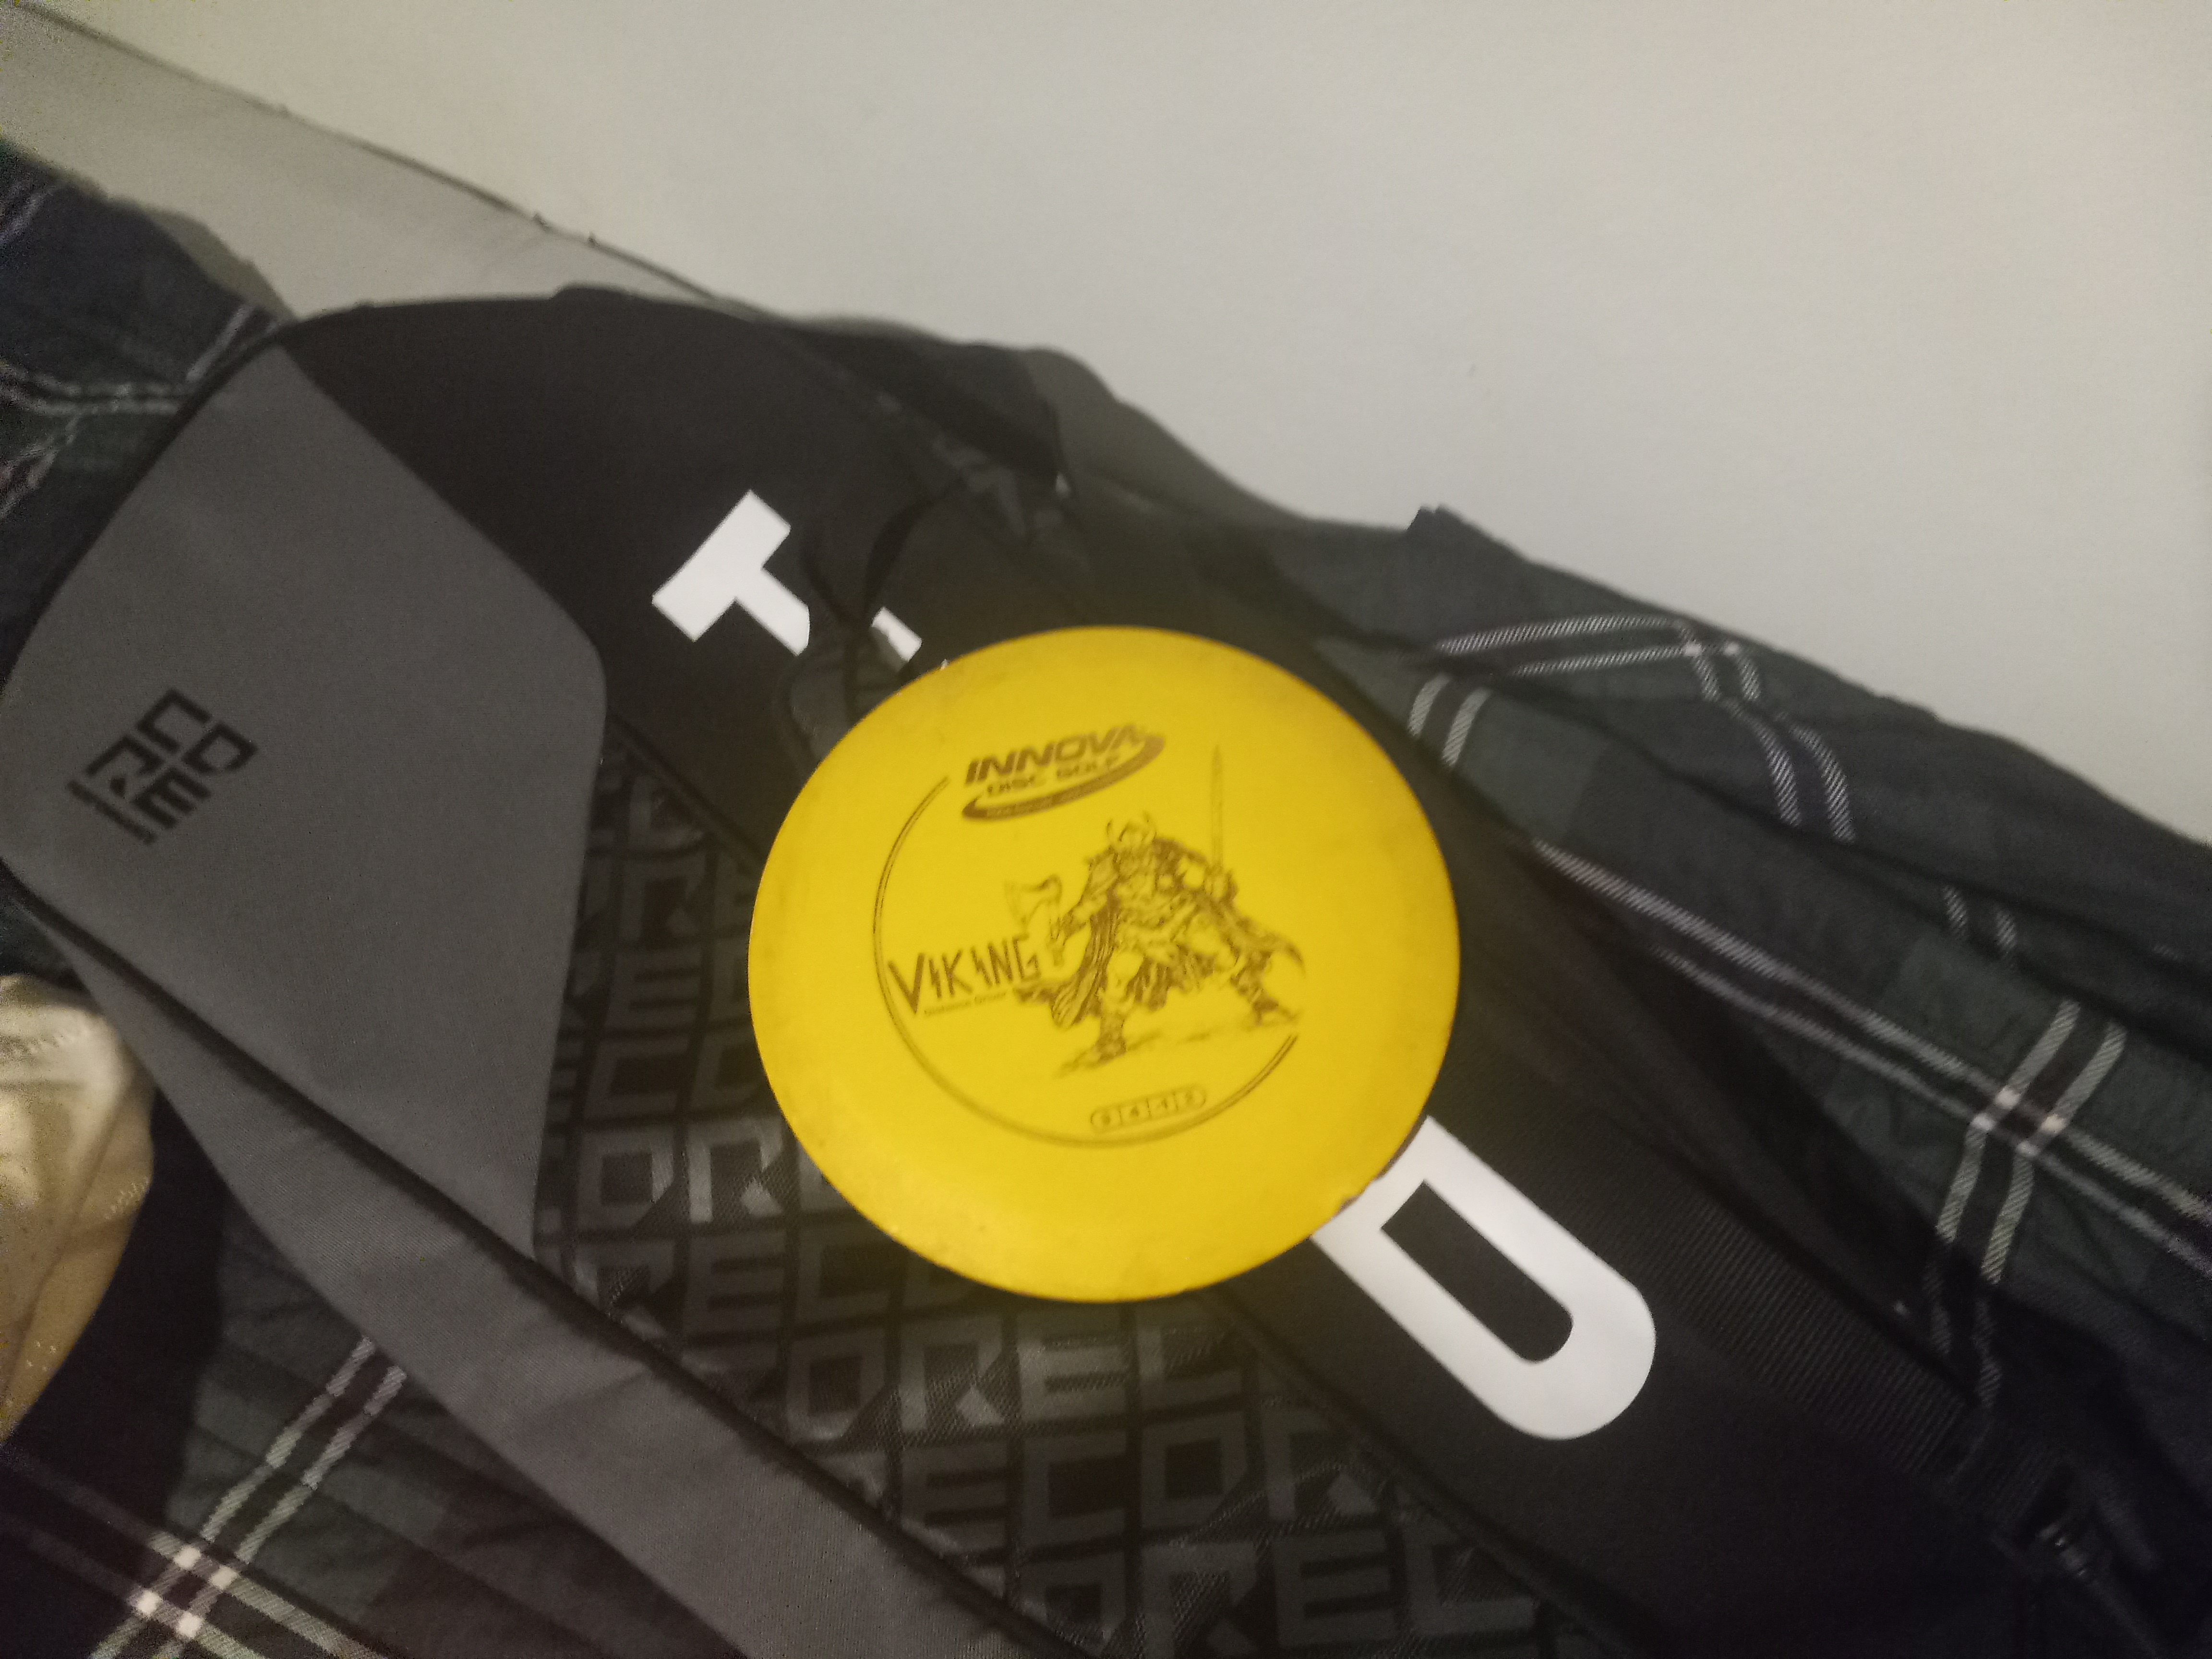driver: (742, 618, 1481, 1299)
